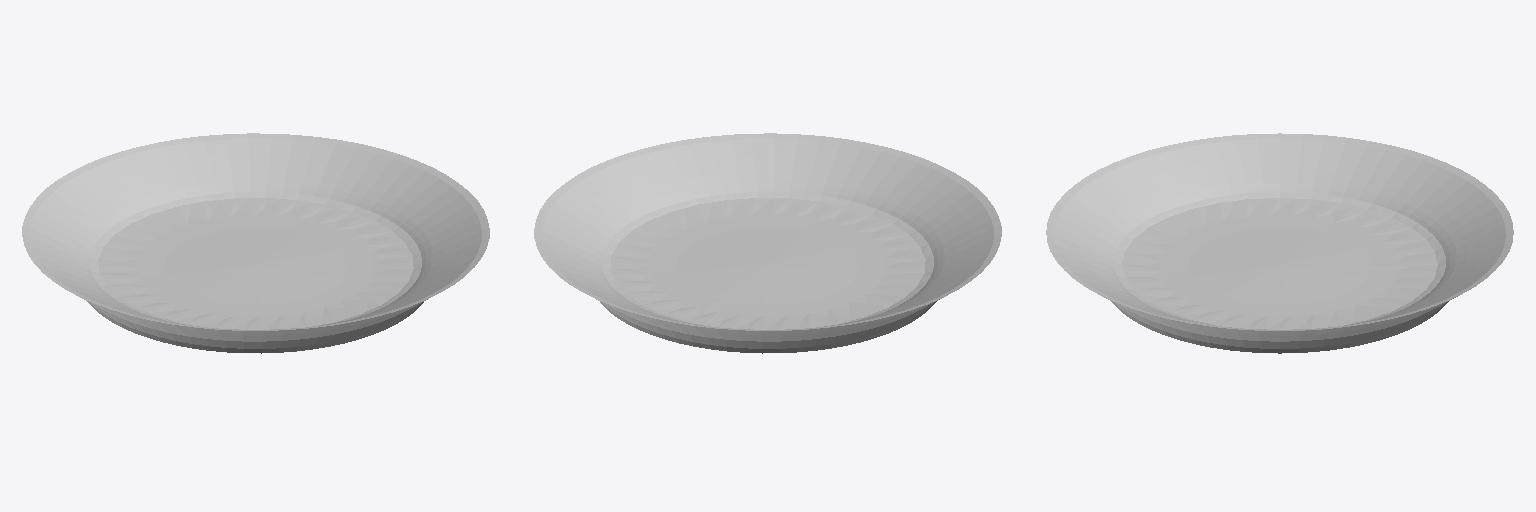
Rendered from Prato1.obj.
The picture shows the model from 3 angles: view 1: azimuth 30°, elevation 25°; view 2: azimuth 150°, elevation 25°; view 3: azimuth 270°, elevation 25°; orthographic projection.
Parts seen in each view (by area): view 1: Cilindro; view 2: Cilindro; view 3: Cilindro.
Boxes of the visible parts, box(x1,y1,x2,y2) form: Cilindro: box(22, 133, 489, 353); Cilindro: box(534, 133, 1001, 353); Cilindro: box(1046, 133, 1513, 353).
Bounding box in the file's own units: 1.11 × 0.124 × 1.11.